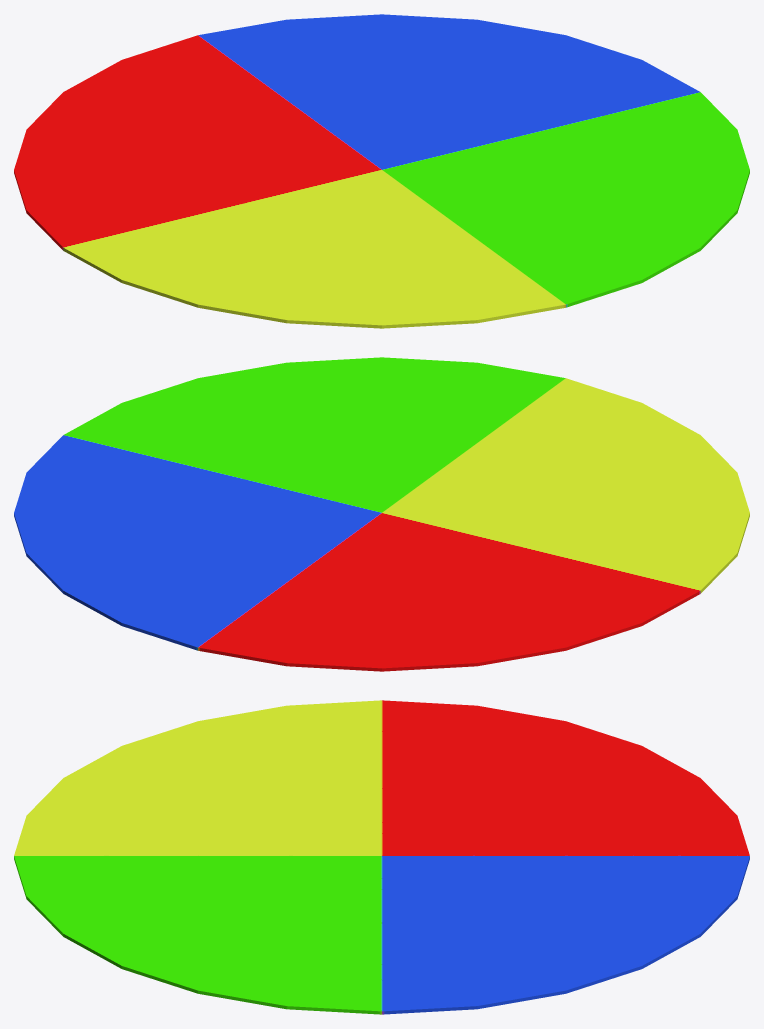
File: carpet.fbx
The picture shows the model from 3 angles, top to bottom: view 1: azimuth 30°, elevation 25°; view 2: azimuth 150°, elevation 25°; view 3: azimuth 270°, elevation 25°; orthographic projection.
Parts seen in each view (by area): view 1: pDisc2; view 2: pDisc2; view 3: pDisc2.
Part boxes in pixels (left/top/right/bottom): pDisc2: left=14, top=14, right=749, bottom=328; pDisc2: left=14, top=357, right=749, bottom=671; pDisc2: left=14, top=700, right=749, bottom=1014.
Size of the model in its own units: 14.17 by 0.0686 by 14.17.
1 material, 1 textured.
